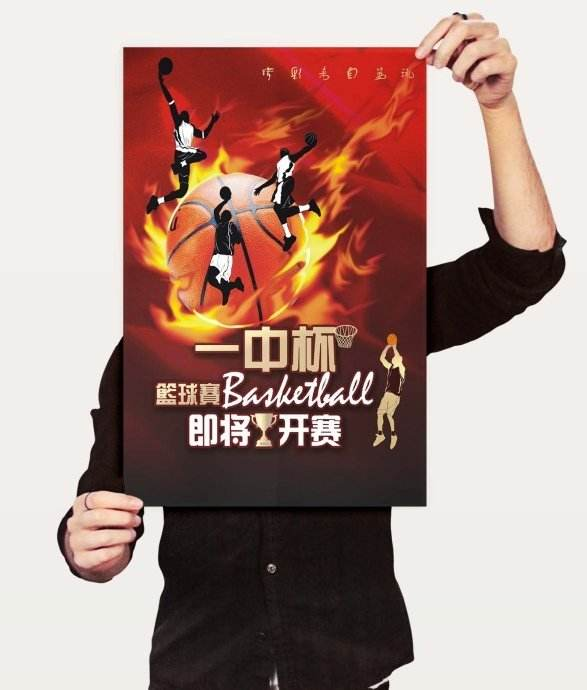bill: (125, 45, 426, 505)
